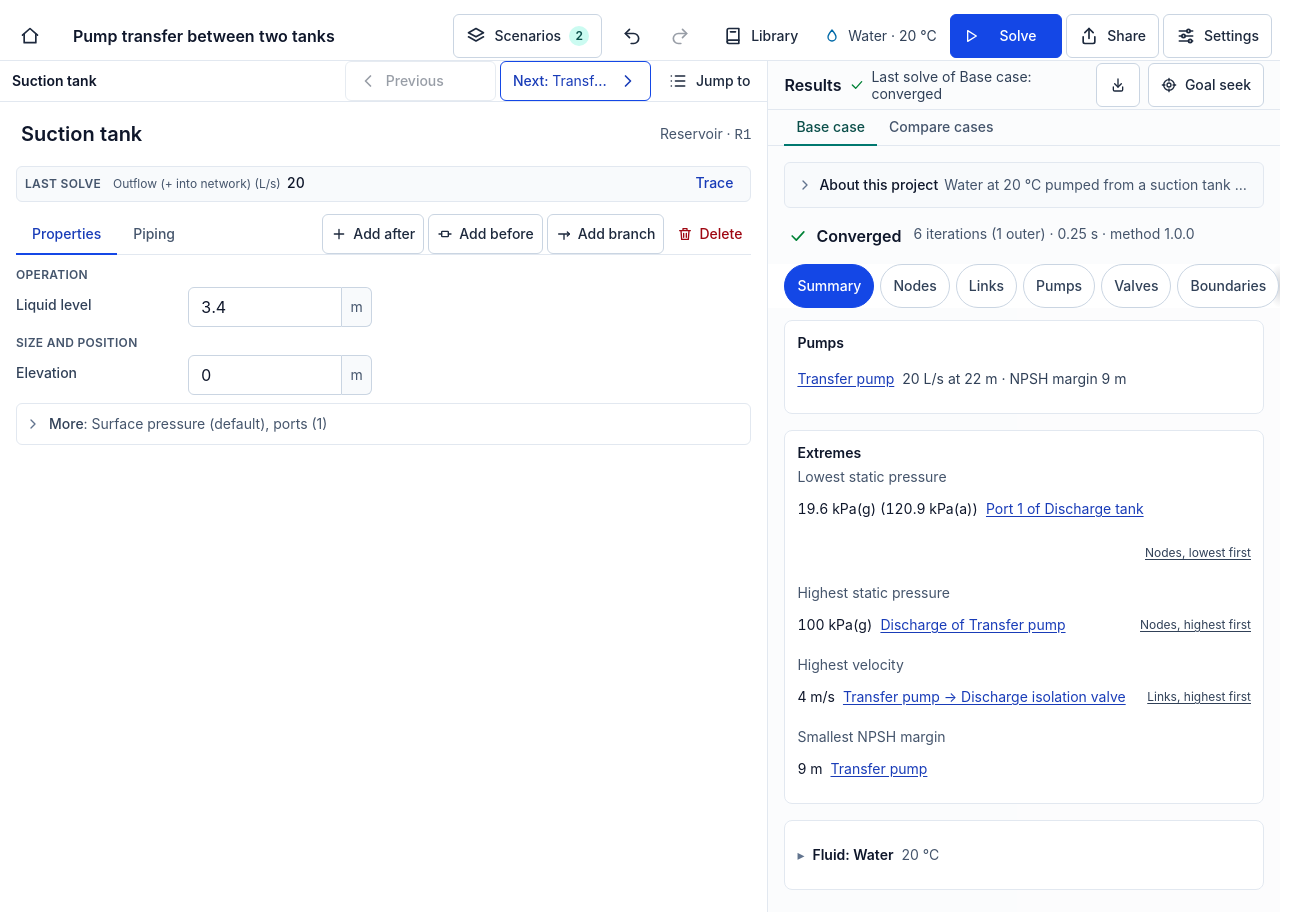
Compare cases › shows no values for a case whose latest solve failed, or that a stopped run did not reach
Click the tab "Compare cases". click: {"x": 941, "y": 128}
box: x1=877 y1=110 x2=1006 y2=146
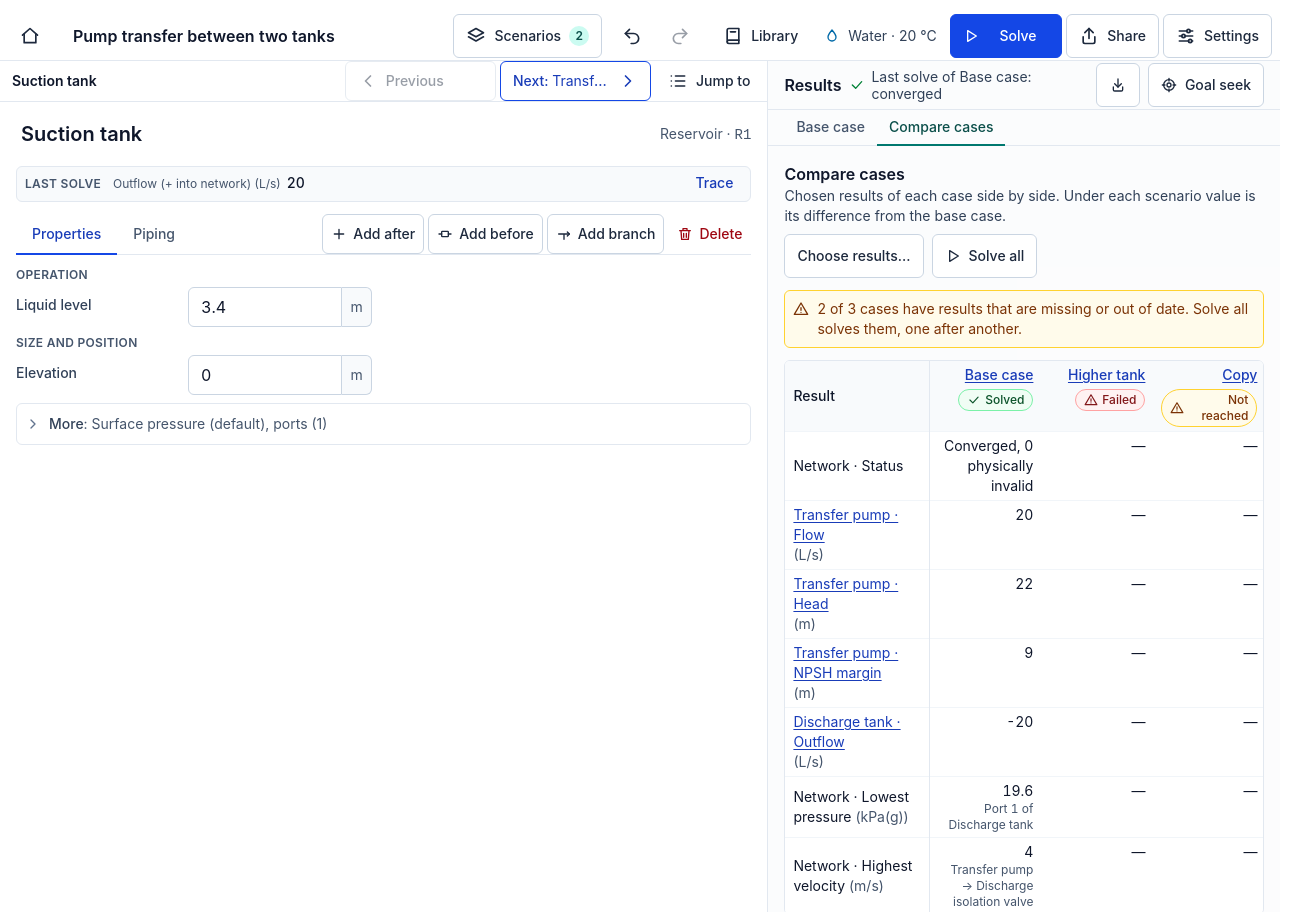
Check: the 3rd cell "—" is shown, box x1=1041 y1=500 x2=1153 y2=570
Check: the 4th cell "—" is shown, box x1=1153 y1=500 x2=1264 y2=570
Check: the column heading "Copy Not reached" is shown, box x1=1153 y1=361 x2=1264 y2=431
